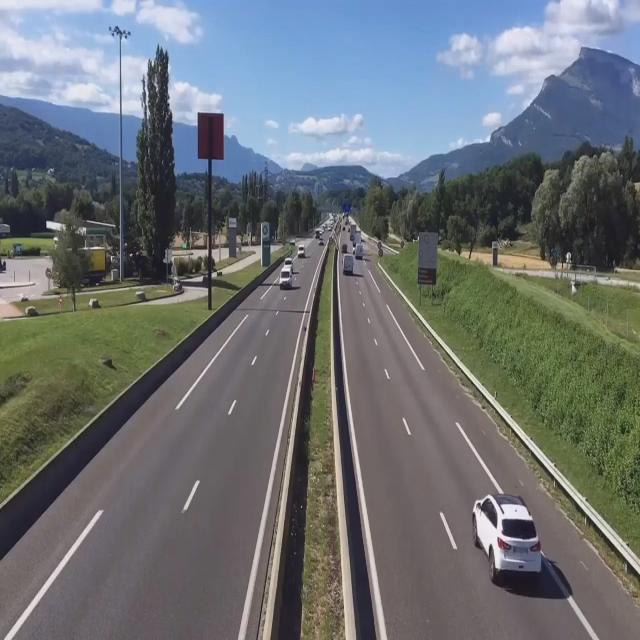car: (474, 496, 546, 595), (280, 261, 294, 289)
